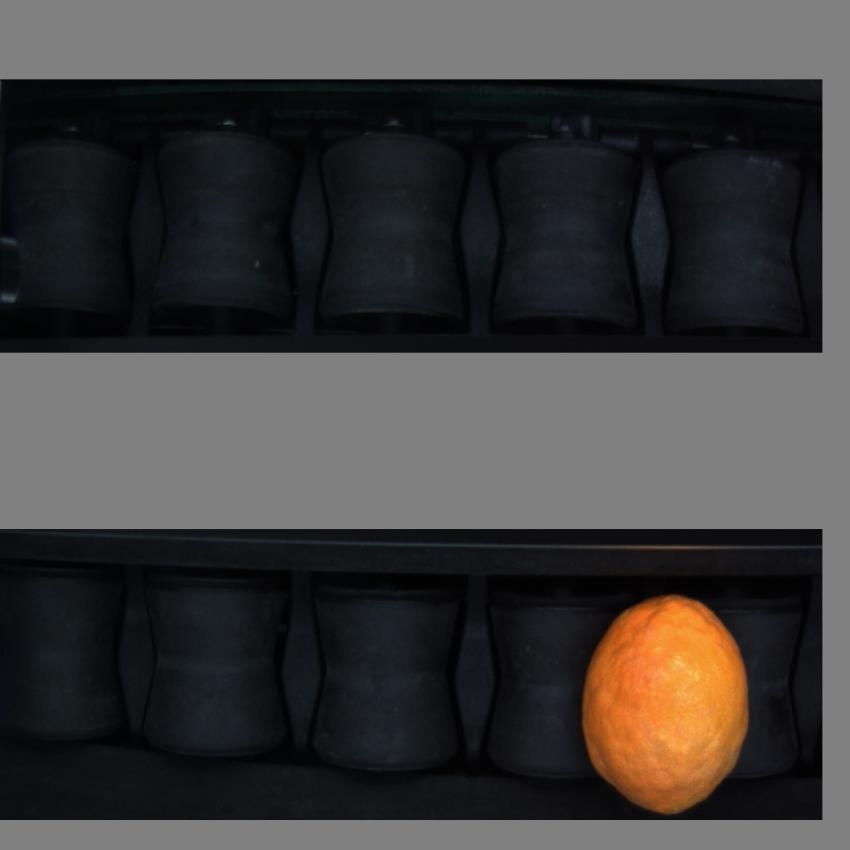Buen estado: (577, 600, 756, 814)
